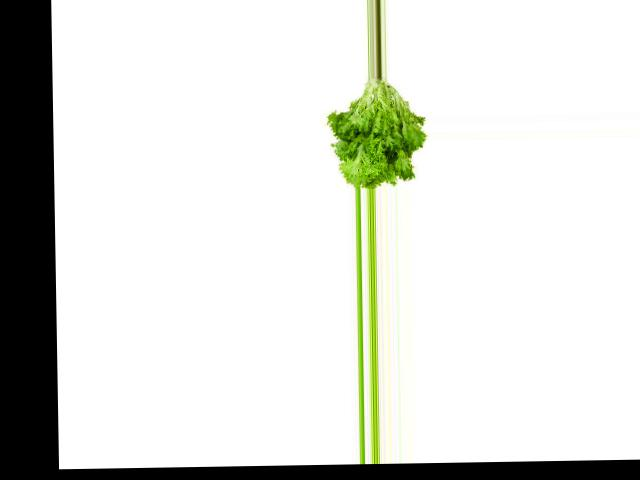lettuce: (325, 75, 431, 188)
